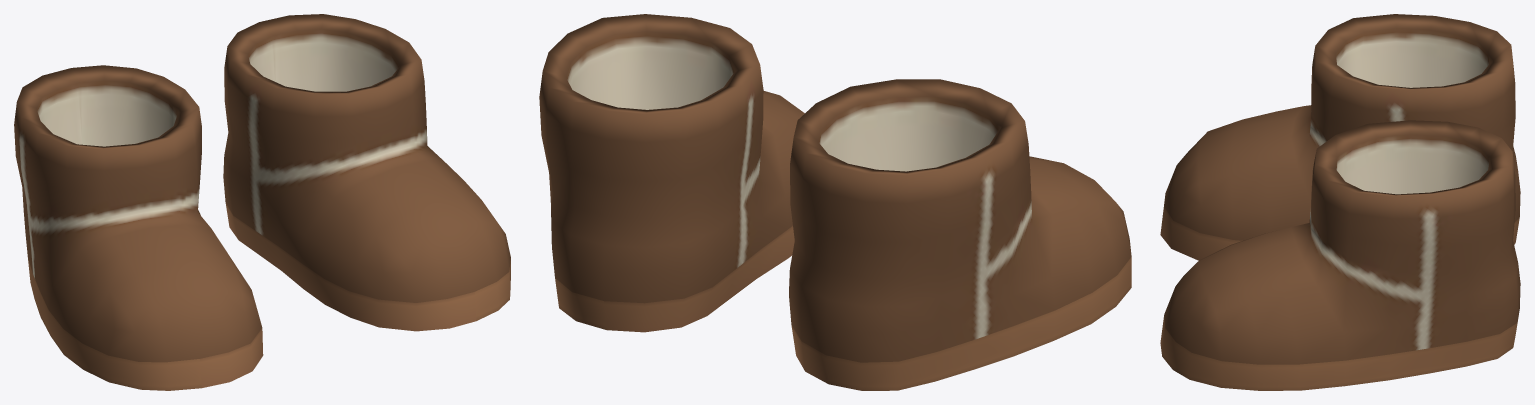
File: ShoesHighcutMouton0.glb
3 views of the same model, side by side, from view 1: azimuth 30°, elevation 25°; view 2: azimuth 150°, elevation 25°; view 3: azimuth 270°, elevation 25° (orthographic). The views are drawn at different scales.
Parts seen in each view (by area): view 1: Body__mShoes; view 2: Body__mShoes; view 3: Body__mShoes.
Part boxes in pixels (left/top/right/bottom): Body__mShoes: left=14, top=14, right=510, bottom=390; Body__mShoes: left=539, top=14, right=1131, bottom=390; Body__mShoes: left=1160, top=14, right=1520, bottom=390.
Bounding box in the file's own units: 3.27 × 1.37 × 2.43.
Materials: 1 (1 with a texture image).
